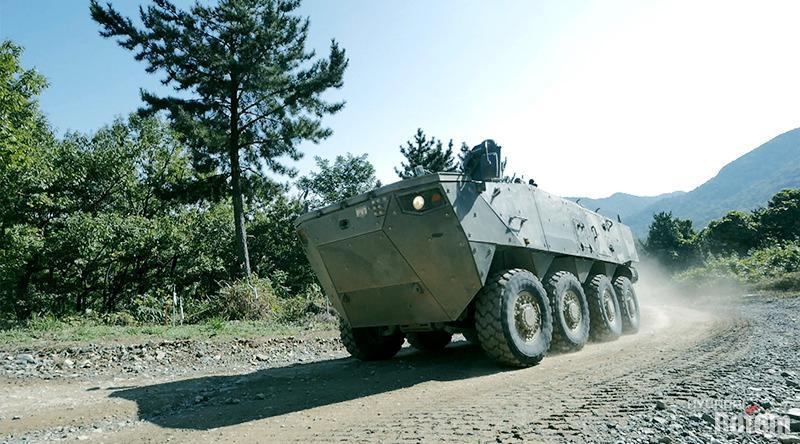MIL_IFV: (294, 138, 642, 371)
